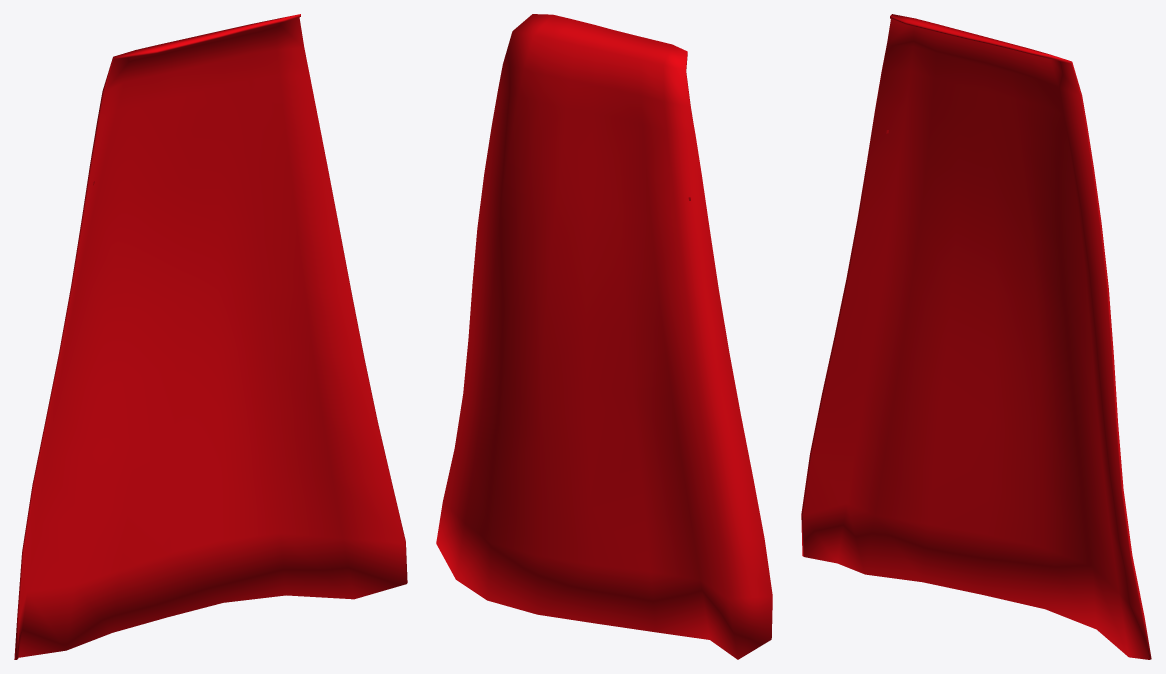
File: Cloak.fbx
The picture shows the model from 3 angles, left to right: view 1: azimuth 30°, elevation 25°; view 2: azimuth 150°, elevation 25°; view 3: azimuth 330°, elevation 25°; orthographic projection. The views are drawn at different scales.
Visible parts, largest first — view 1: Cloak; view 2: Cloak; view 3: Cloak.
Boxes of the visible parts, x1,y1,x2,y2 form: Cloak: [14, 14, 407, 659]; Cloak: [436, 14, 772, 659]; Cloak: [801, 14, 1151, 659].
Bounding box in the file's own units: 176 × 275 × 34.37.
